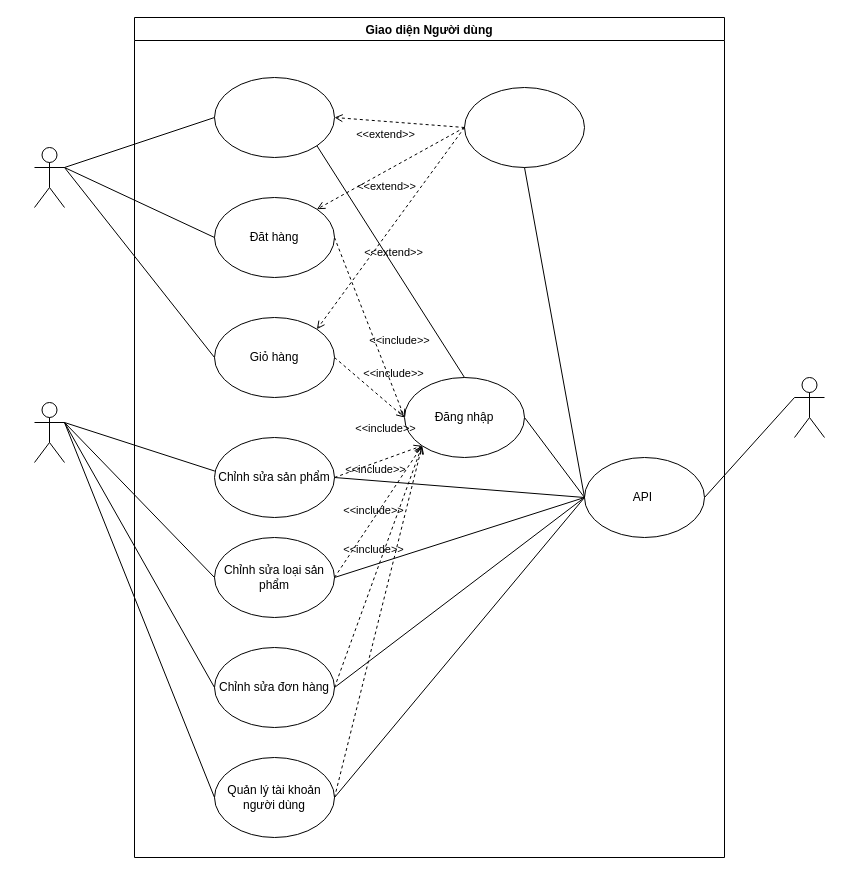
Some shapes in this 868 by 875 pixel diagram are drawn without their labels. The box of each missing label's shape, as (x1, y1, x2, y2) in pixels:
Admin: (34, 402, 64, 462)
Gợi ý sản phẩm: (464, 86, 584, 168)
Hệ thống Sever: (794, 376, 824, 438)
Khách hàng: (34, 146, 64, 208)
Xem sản phẩm: (214, 76, 334, 158)
